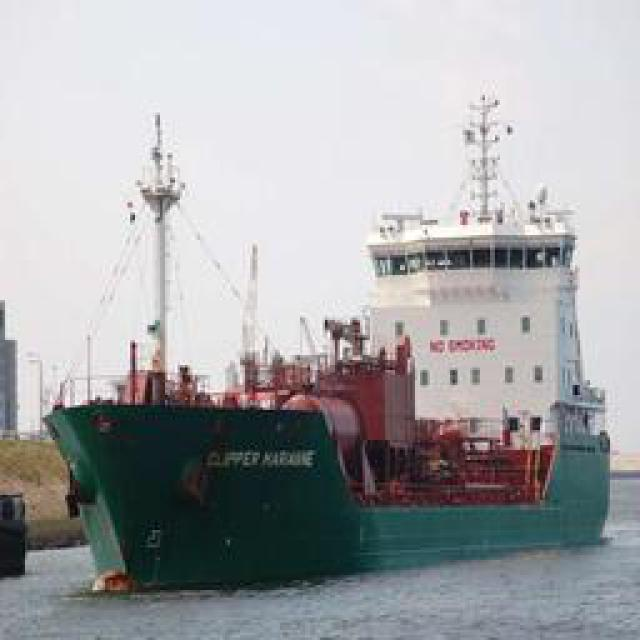Ship: (21, 72, 625, 602)
